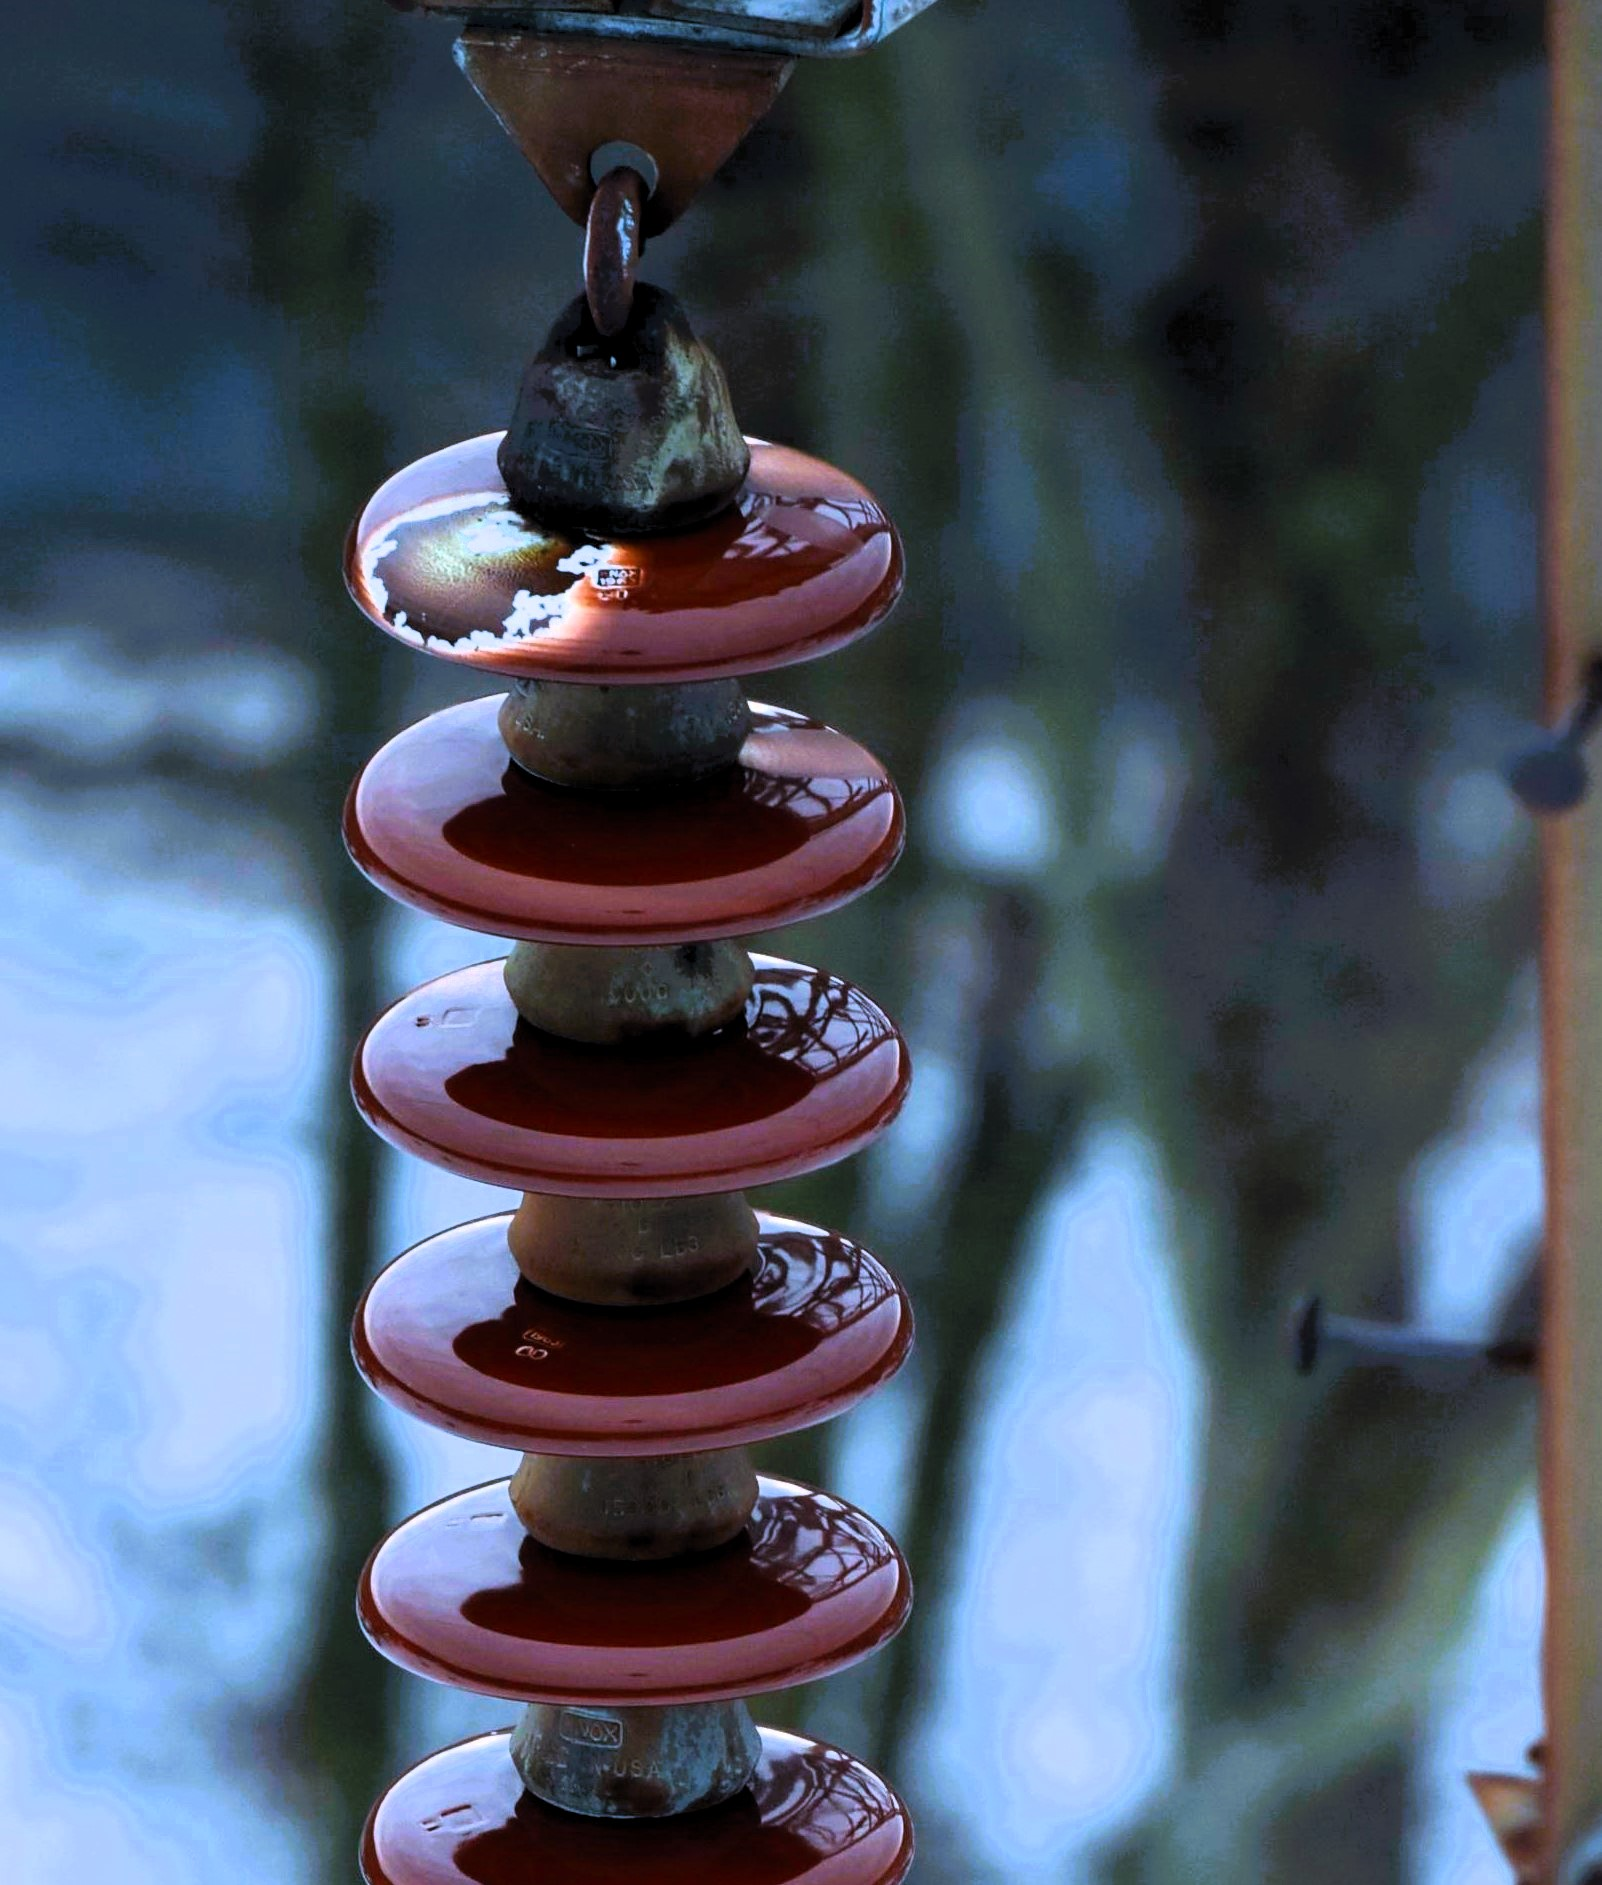Insulator flashover: (324, 381, 920, 710)
